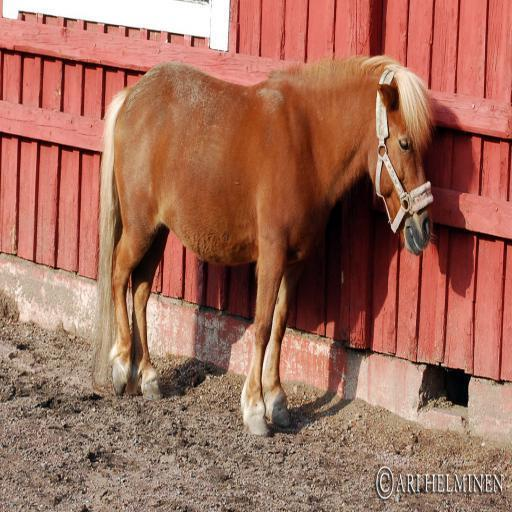horse: (94, 53, 436, 437)
